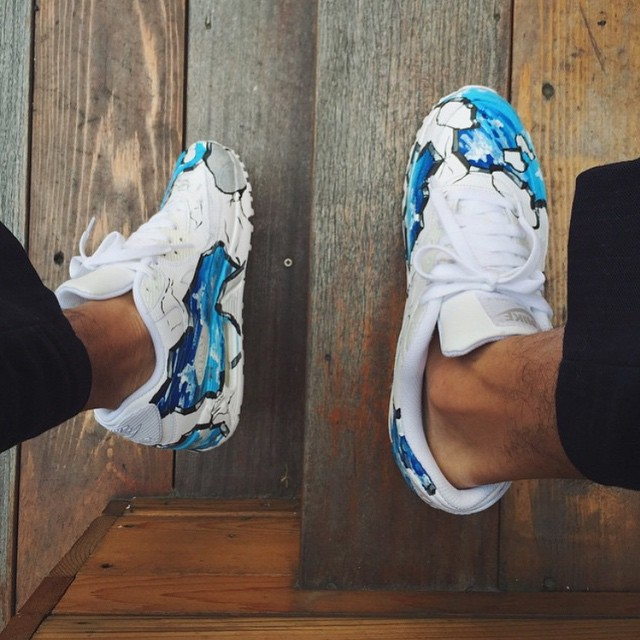sneaker: (368, 74, 567, 529), (37, 126, 281, 474)
